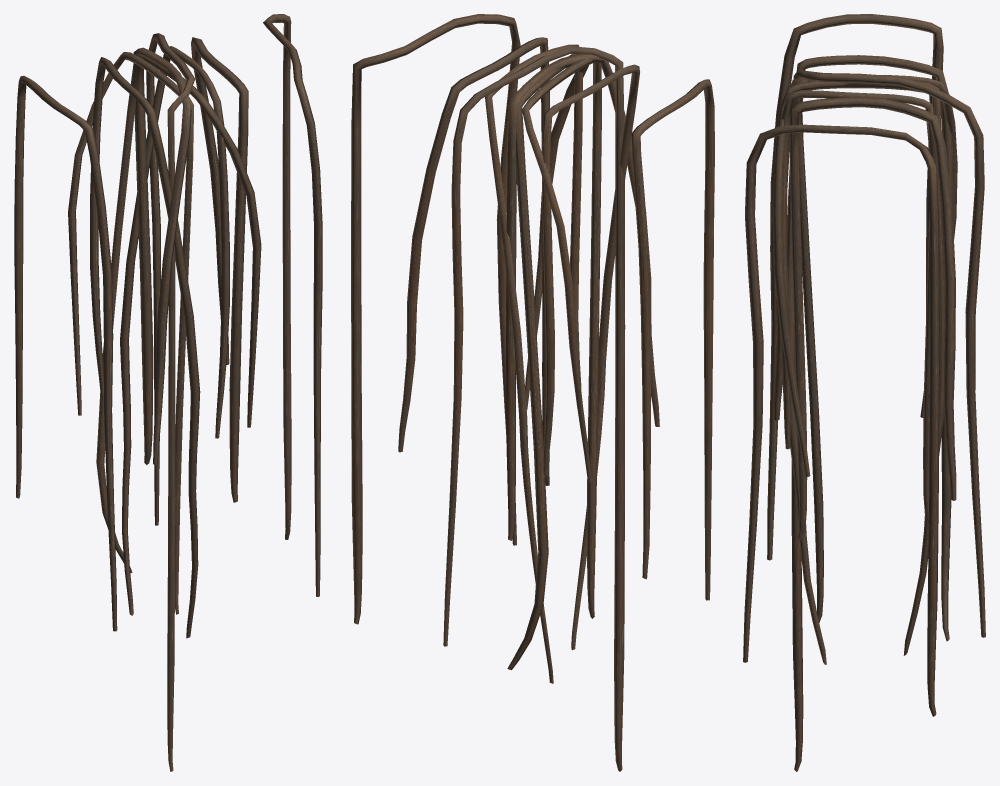
The model's file is SM_HangingLianas_3.fbx.
3 views of the same model, side by side, from view 1: azimuth 30°, elevation 25°; view 2: azimuth 150°, elevation 25°; view 3: azimuth 270°, elevation 25° (orthographic). The views are drawn at different scales.
Visible parts, largest first — view 1: SM_HangingLianas_3_LOD0; view 2: SM_HangingLianas_3_LOD0; view 3: SM_HangingLianas_3_LOD0.
Boxes of the visible parts, x1,y1,x2,y2 form: SM_HangingLianas_3_LOD0: [14, 14, 322, 771]; SM_HangingLianas_3_LOD0: [351, 14, 714, 771]; SM_HangingLianas_3_LOD0: [743, 14, 985, 771].
Bounding box in the file's own units: 49.47 × 35.4 × 115.
